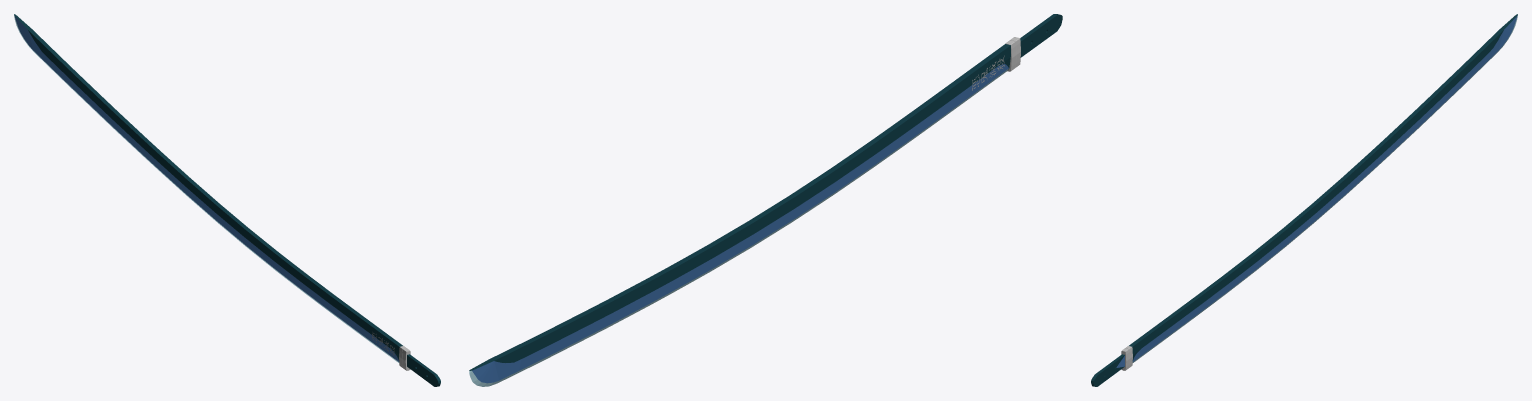
Rendered from blade_water.glb.
3 renders of one model, left to right at view 1: azimuth 30°, elevation 25°; view 2: azimuth 150°, elevation 25°; view 3: azimuth 330°, elevation 25°, orthographic. The views are drawn at different scales.
Parts seen in each view (by area): view 1: Blade; view 2: Blade; view 3: Blade.
Part boxes in pixels (x1,y1,x2,y2): Blade: [14, 14, 440, 386]; Blade: [469, 14, 1062, 386]; Blade: [1091, 14, 1517, 386].
Bounding box in the file's own units: 0.0197 × 0.2429 × 2.75.
